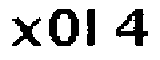0: (46, 3, 81, 48)
4: (114, 7, 150, 50)
l: (82, 5, 103, 50)
x: (9, 15, 43, 48)
